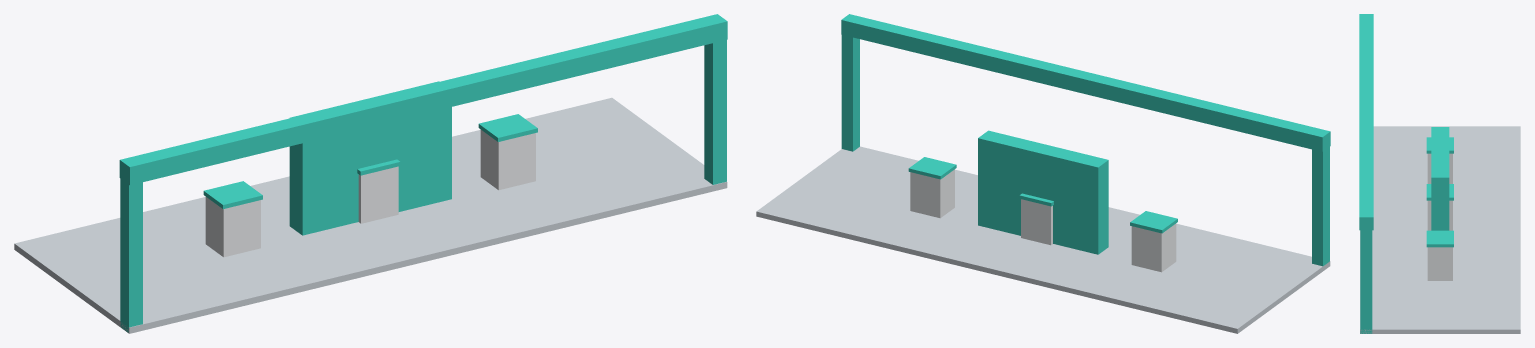
3 views of the same model, side by side, from view 1: azimuth 30°, elevation 25°; view 2: azimuth 150°, elevation 25°; view 3: azimuth 270°, elevation 25° (orthographic). The views are drawn at different scales.
Visible parts, largest first — view 1: Exhibition Booth Concept; view 2: Exhibition Booth Concept; view 3: Exhibition Booth Concept.
Boxes of the visible parts, x1,y1,x2,y2 form: Exhibition Booth Concept: [14, 14, 727, 333]; Exhibition Booth Concept: [756, 14, 1330, 333]; Exhibition Booth Concept: [1359, 14, 1520, 333].
Size of the model in its own units: 12 by 3.2 by 4.02.
